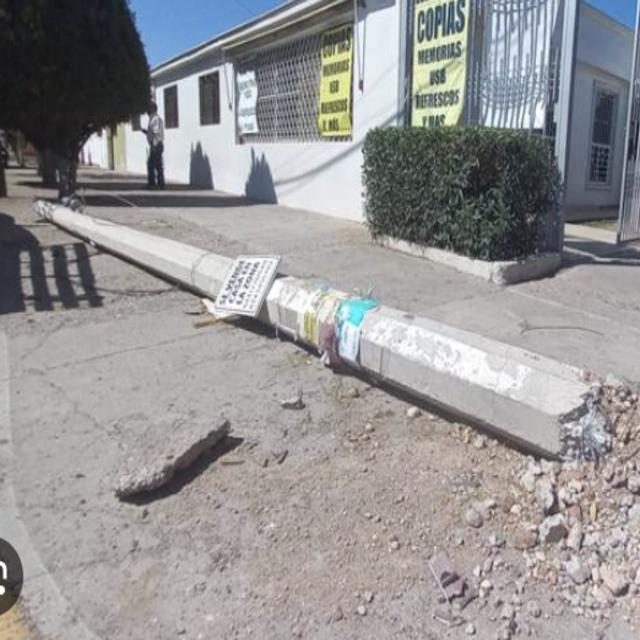Inclined Pole: (34, 190, 596, 459)
